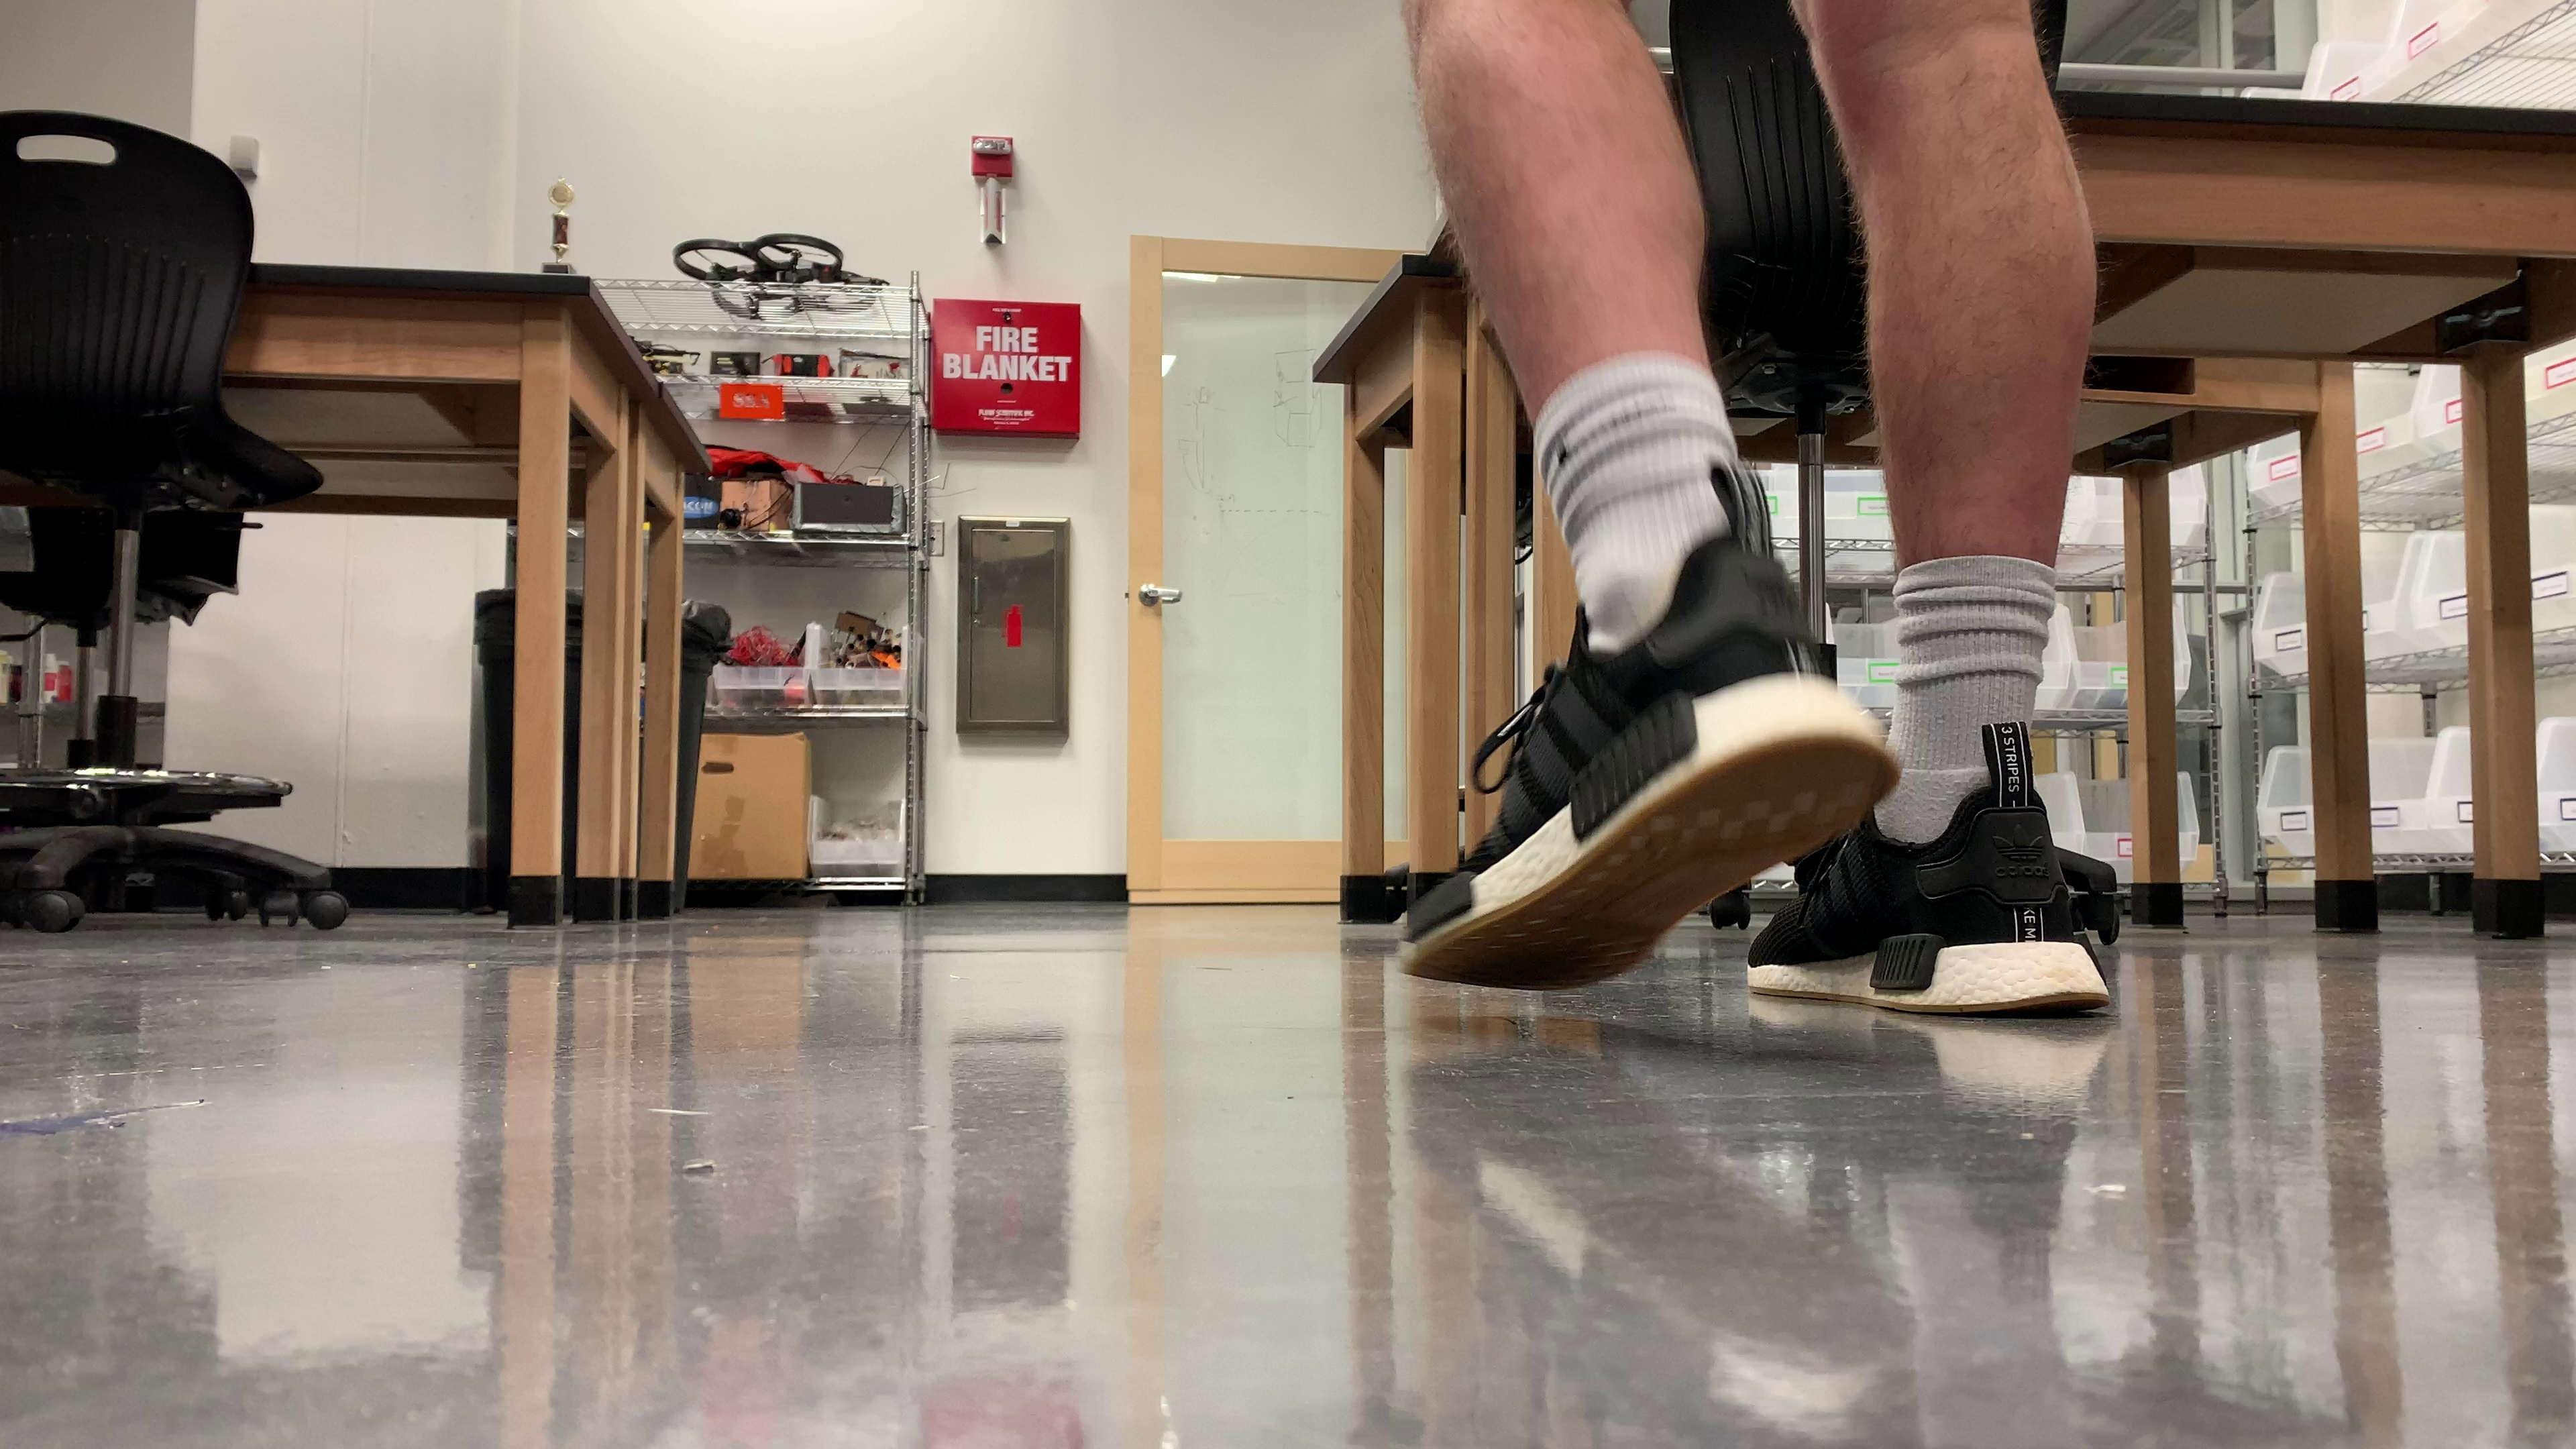shoe: (1401, 533, 1898, 987), (1750, 786, 2111, 1017)
